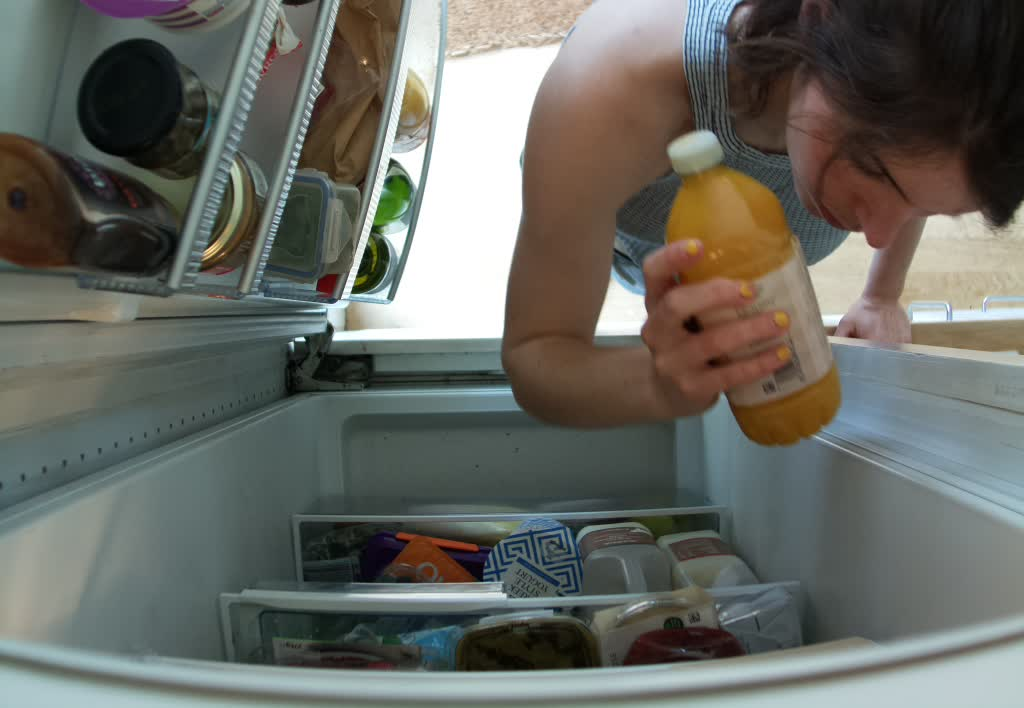juice: (652, 129, 847, 447)
